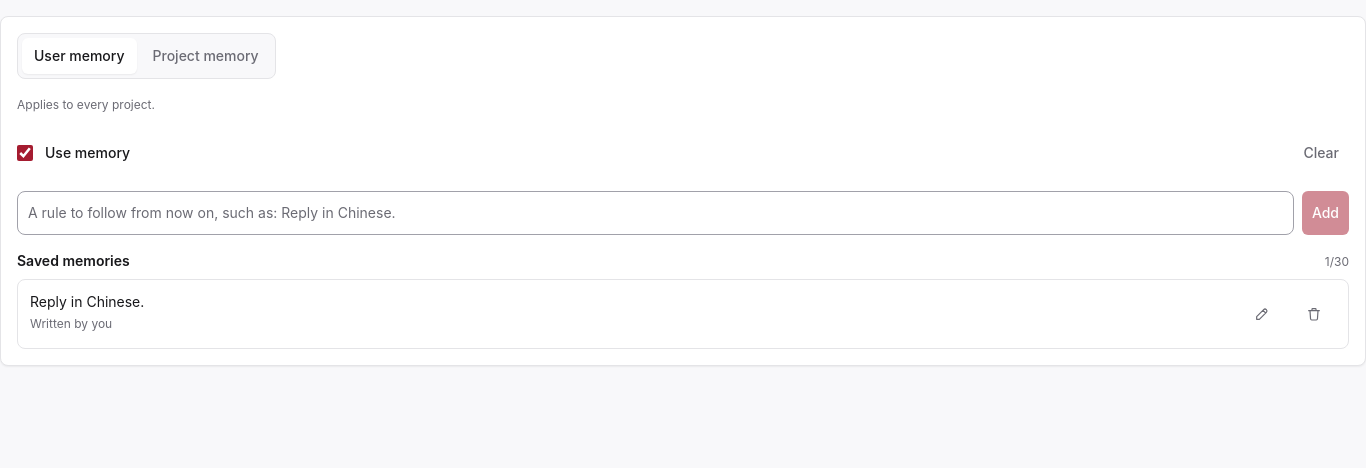
memory settings card › shows user memory first and switches scopes with the mouse or keyboard
Expected: the text "Reply in Chinese." is shown, 30,292 -> 144,310
Click the tab "Project memory" at [206, 56], box 140,38 -> 271,74
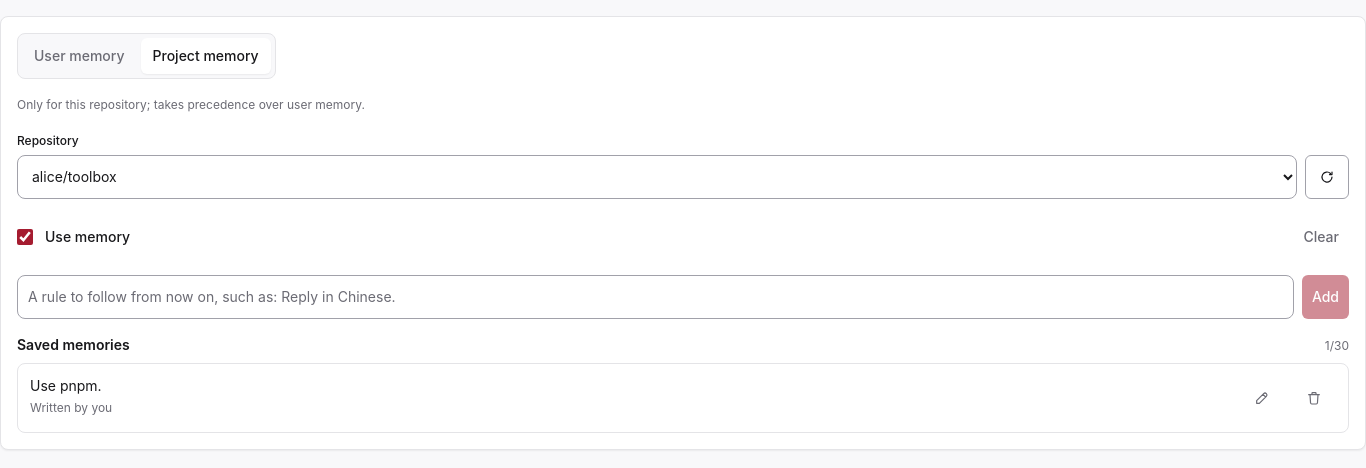
Now the text "Use pnpm." is shown, box 30,376 -> 102,394
Press ArrowRight in the tab "Project memory", box 140,38 -> 271,74
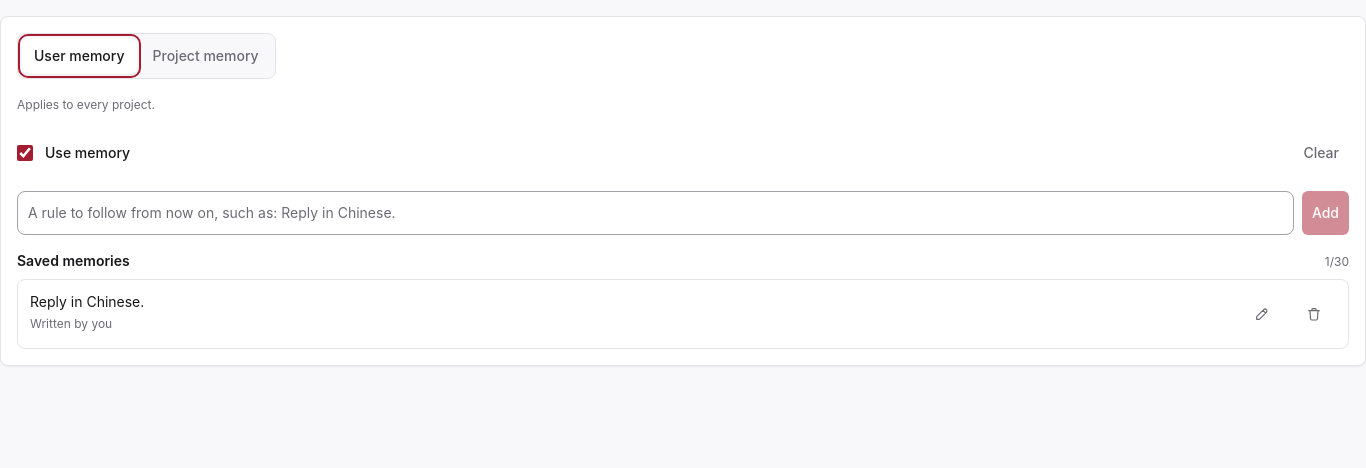
Now the panel named "User memory" is shown, box 17,95 -> 1349,348
